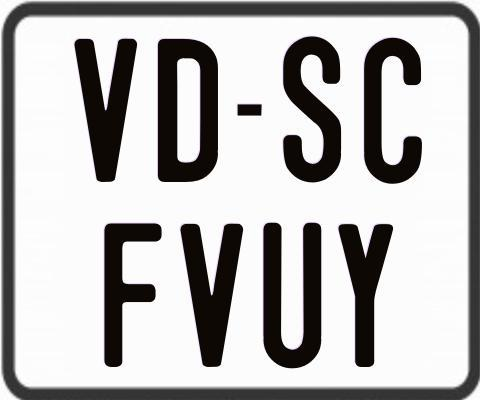C: (364, 35, 422, 185)
D: (156, 36, 216, 183)
F: (103, 222, 164, 370)
S: (280, 36, 341, 186)
U: (263, 222, 323, 371)
V: (74, 39, 141, 188), (179, 223, 244, 372)
Y: (337, 222, 397, 367)
